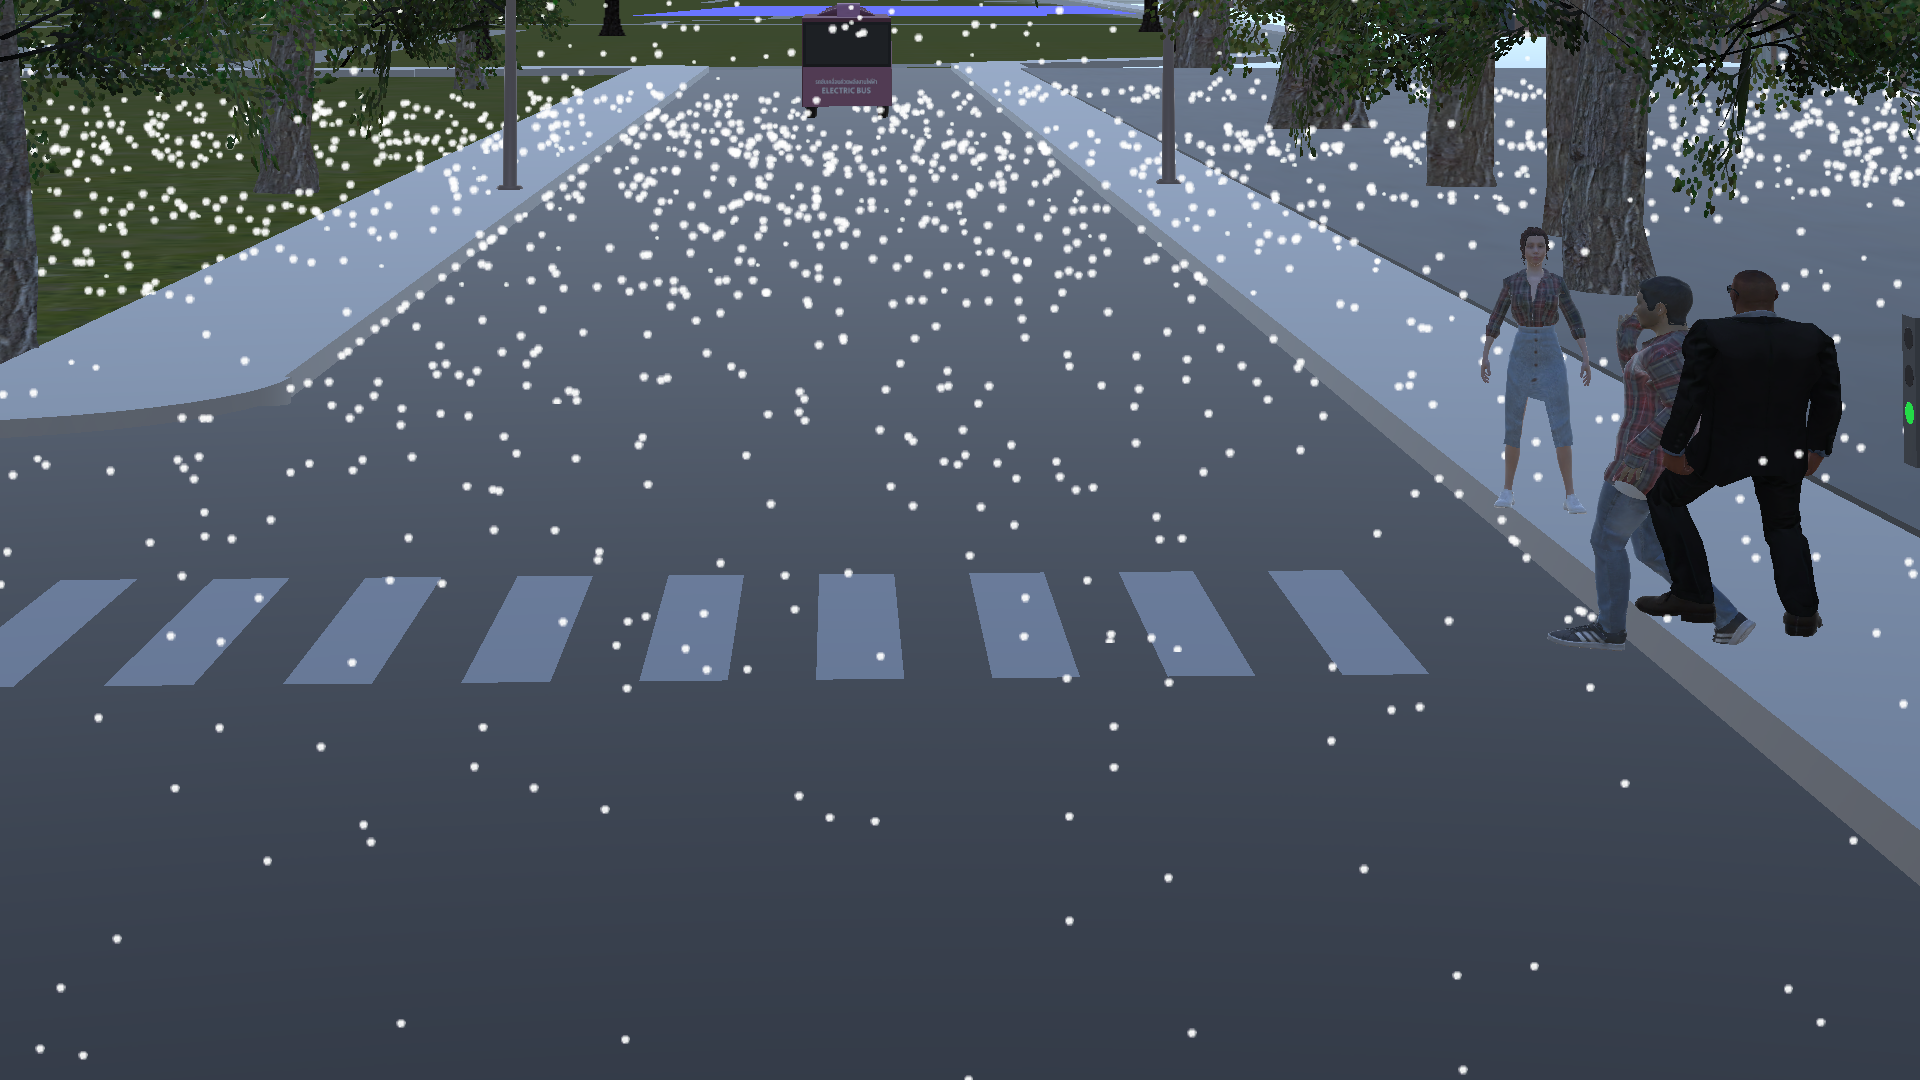pedestrian: (1658, 270, 1825, 650), (1557, 258, 1705, 672), (1470, 216, 1584, 526)
